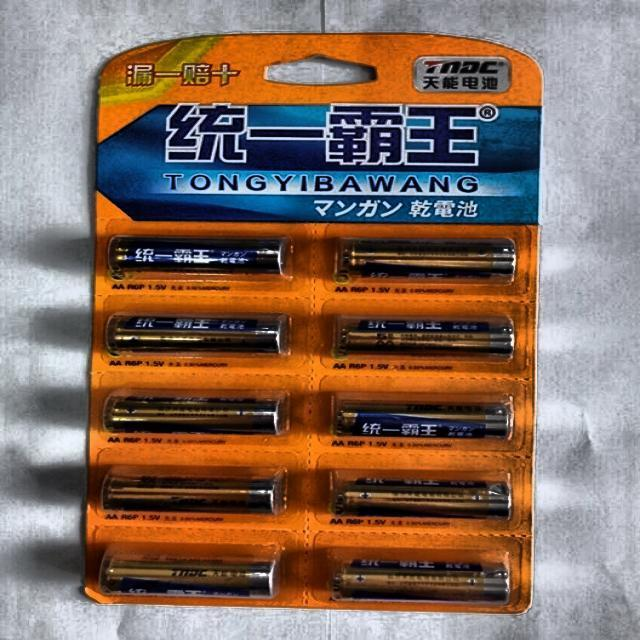battery: (99, 545, 276, 598), (332, 560, 510, 603), (109, 236, 285, 277), (107, 314, 287, 354), (337, 317, 514, 356), (101, 474, 282, 512), (333, 479, 511, 517), (341, 240, 516, 278), (104, 396, 279, 433), (335, 404, 511, 437)
